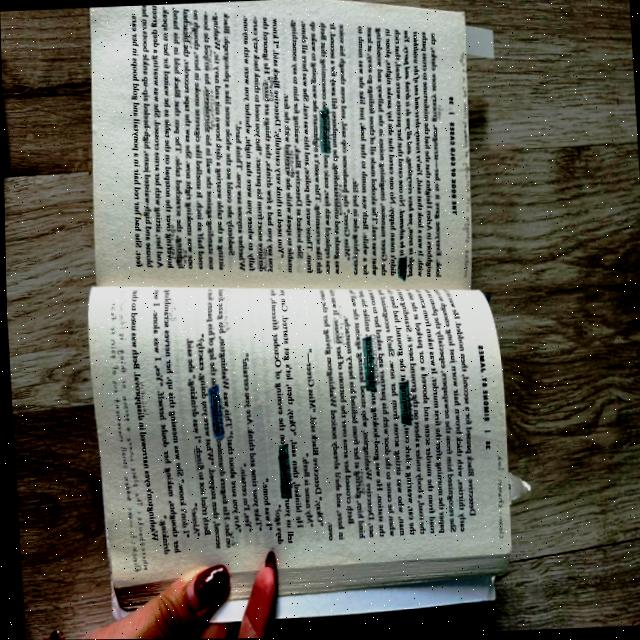Book: (85, 0, 529, 624)
